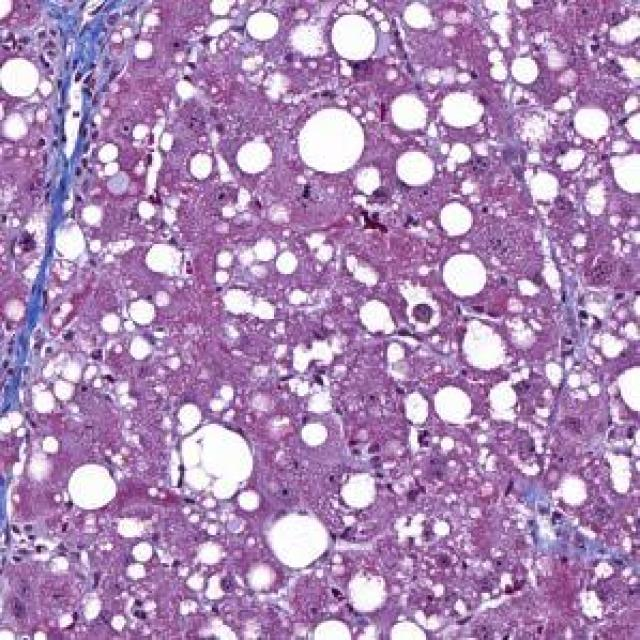fibrosis: (22, 0, 144, 289)
